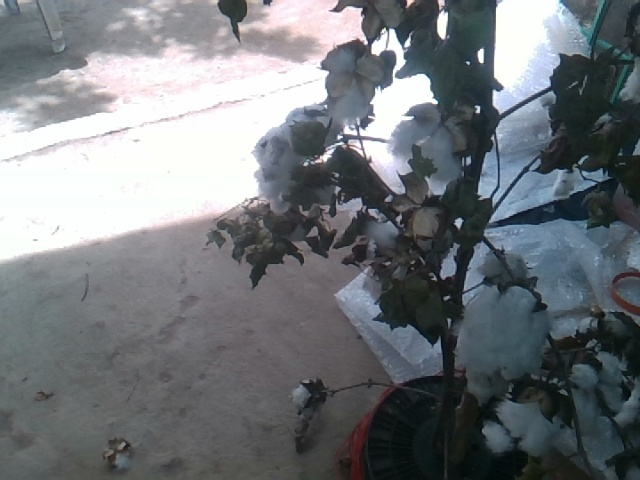cotton: (461, 286, 542, 394), (251, 108, 318, 215), (388, 104, 464, 183), (323, 48, 385, 123), (487, 401, 567, 458)
